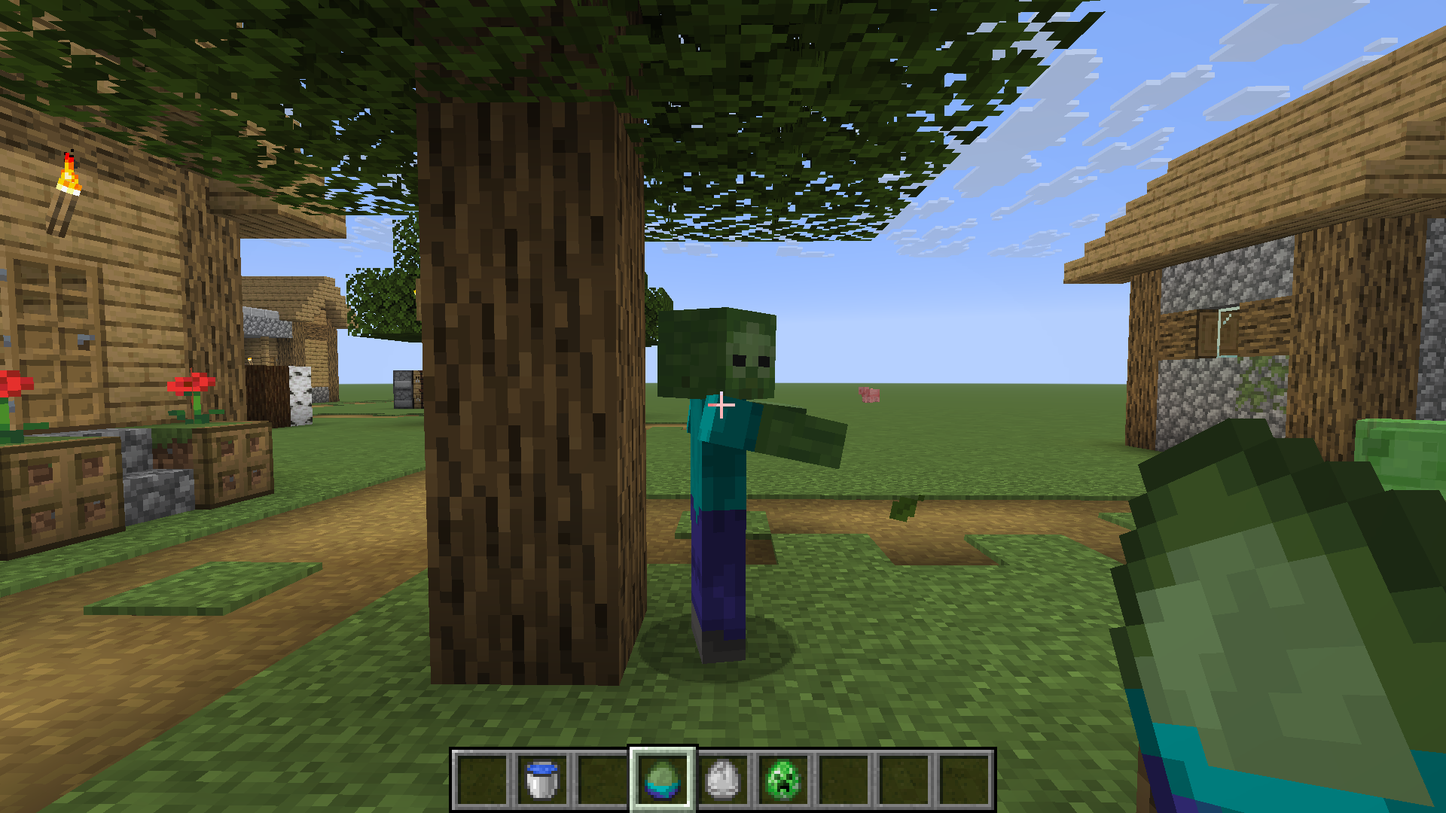Torch: (30, 145, 96, 246)
Tree: (2, 1, 1116, 682)
zombie: (654, 300, 859, 680)
